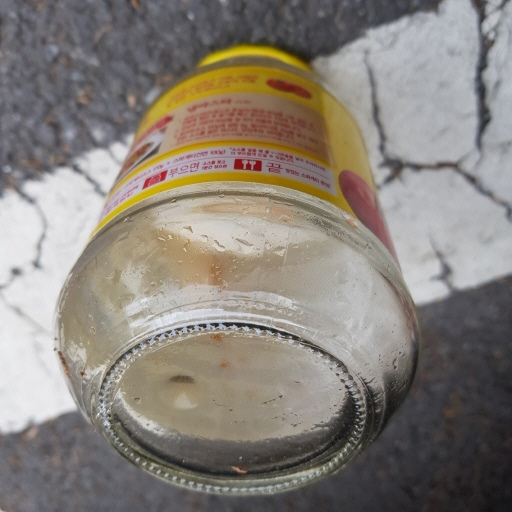Glass_5: (50, 43, 419, 500)
